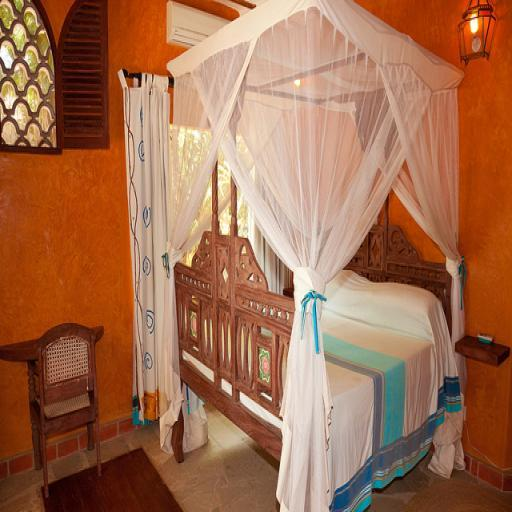bed: (162, 18, 488, 494)
